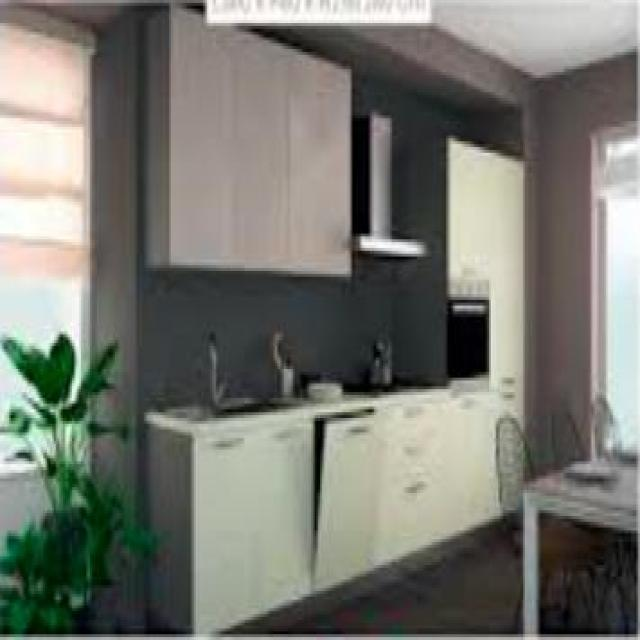dishwasher: (311, 401, 379, 582)
